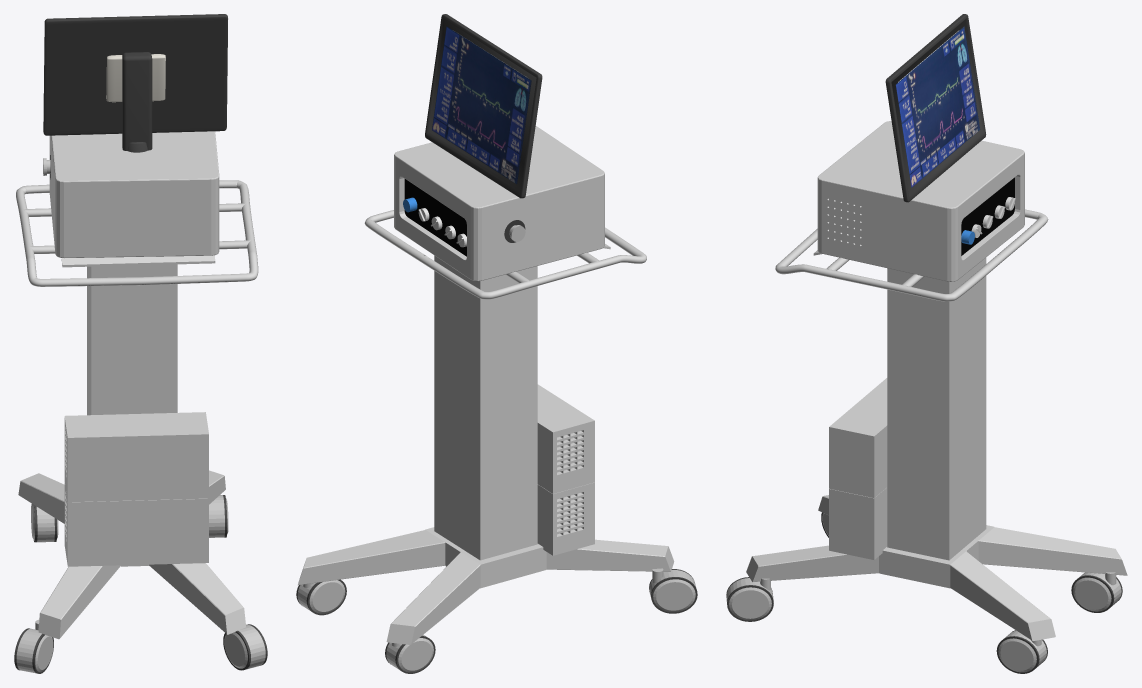
File: Vitales_Consul.fbx
3 views of the same model, side by side, from view 1: azimuth 30°, elevation 25°; view 2: azimuth 150°, elevation 25°; view 3: azimuth 270°, elevation 25° (orthographic). The views are drawn at different scales.
Parts seen in each view (by area): view 1: silla_Usabana.006; view 2: silla_Usabana.006; view 3: silla_Usabana.006.
Boxes of the visible parts, <box> form: silla_Usabana.006: <box>14,14,267,673</box>; silla_Usabana.006: <box>296,14,697,673</box>; silla_Usabana.006: <box>726,14,1127,673</box>.
Size of the model in its own units: 102 by 181 by 117.
